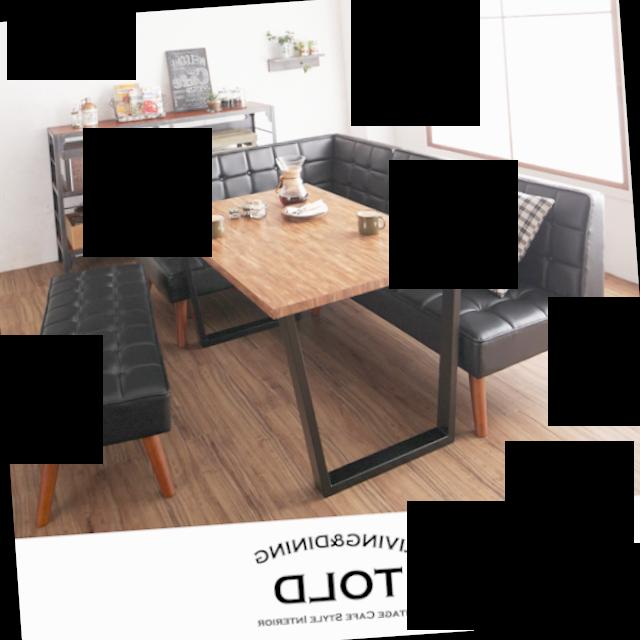vintage sofa: (152, 166, 498, 513)
